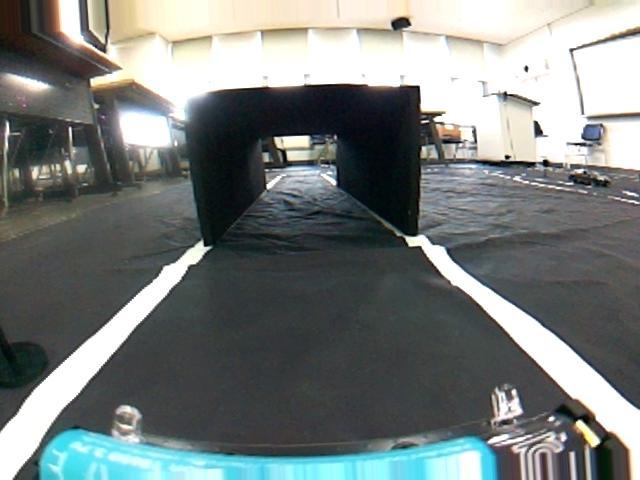straight: (5, 217, 640, 471)
